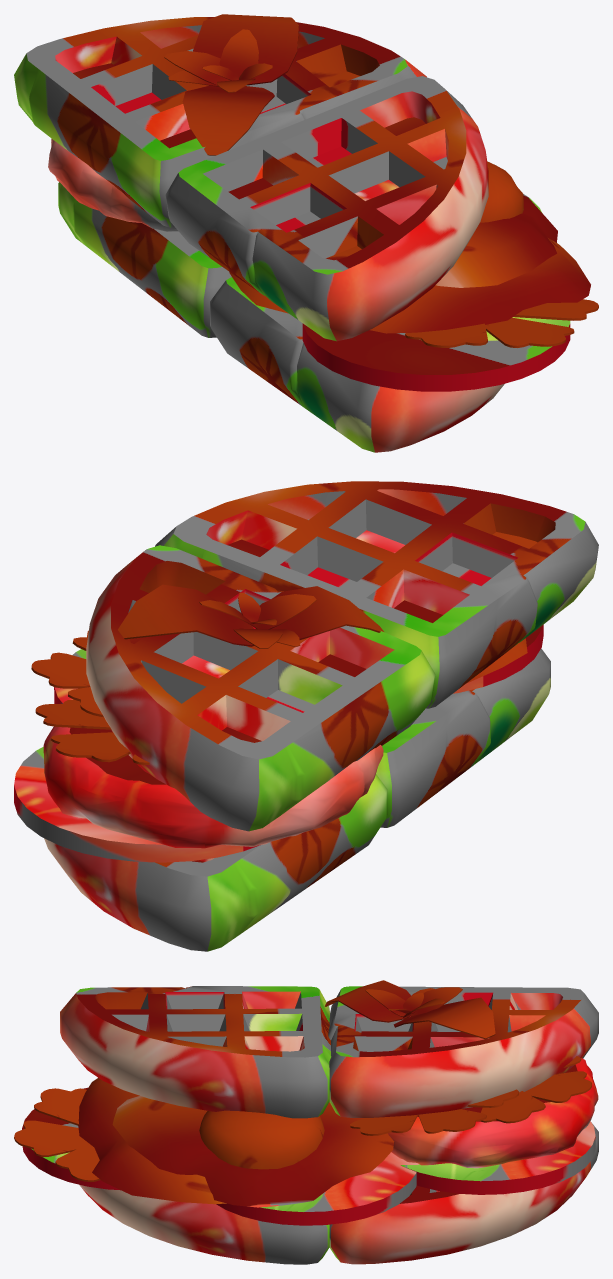
Rendered from Lab_3_waffel_sandwich .fbx.
3 renders of one model, top to bottom at view 1: azimuth 30°, elevation 25°; view 2: azimuth 150°, elevation 25°; view 3: azimuth 270°, elevation 25°, orthographic. The views are drawn at different scales.
Visible parts, largest first — view 1: Plane.016, Plane.018, Plane.014, Plane.021, tomato.005, Plane.017, Circle.005, Circle.003, Plane.020, Cube.002; view 2: Plane.018, Plane.016, Plane.017, Cube.002, Plane.014, Plane.021, tomato.006, Plane.022, Plane.019, tomato.005; view 3: Plane.016, Plane.018, Circle.003, Plane.017, Plane.014, Cube.002, Circle.005, tomato.004, tomato.006, Plane.021, Plane.020, Plane.022 (+2 smaller).
Boxes of the visible parts, x1,y1,x2,y2 form: Plane.016: (165,76,488,341); Plane.018: (14,17,426,227); Plane.014: (210,277,504,452); Plane.021: (164,14,298,155); tomato.005: (302,317,570,391); Plane.017: (58,182,231,337); Circle.005: (229,238,590,333); Circle.003: (436,161,557,287); Plane.020: (405,299,598,347); Cube.002: (48,138,178,231); Plane.018: (86,545,435,831); Plane.016: (155,481,598,708); Plane.017: (44,774,387,951); Cube.002: (43,726,383,848); Plane.014: (376,648,550,827); Plane.021: (118,584,383,648); tomato.006: (14,746,260,862); Plane.022: (35,699,149,764); Plane.019: (31,630,103,717); tomato.005: (453,624,543,693); Plane.016: (60,986,331,1118); Plane.018: (328,986,598,1117); Circle.003: (112,1096,394,1207); Plane.017: (329,1122,598,1264); Plane.014: (79,1184,329,1264); Cube.002: (388,1058,598,1168); Circle.005: (78,1078,226,1204); tomato.004: (216,1152,418,1225); tomato.006: (400,1121,595,1194); Plane.021: (325,980,495,1039); Plane.020: (14,1088,100,1181); Plane.022: (480,1056,591,1123).
Size of the model in its own units: 3.92 by 2.5 by 6.65.
